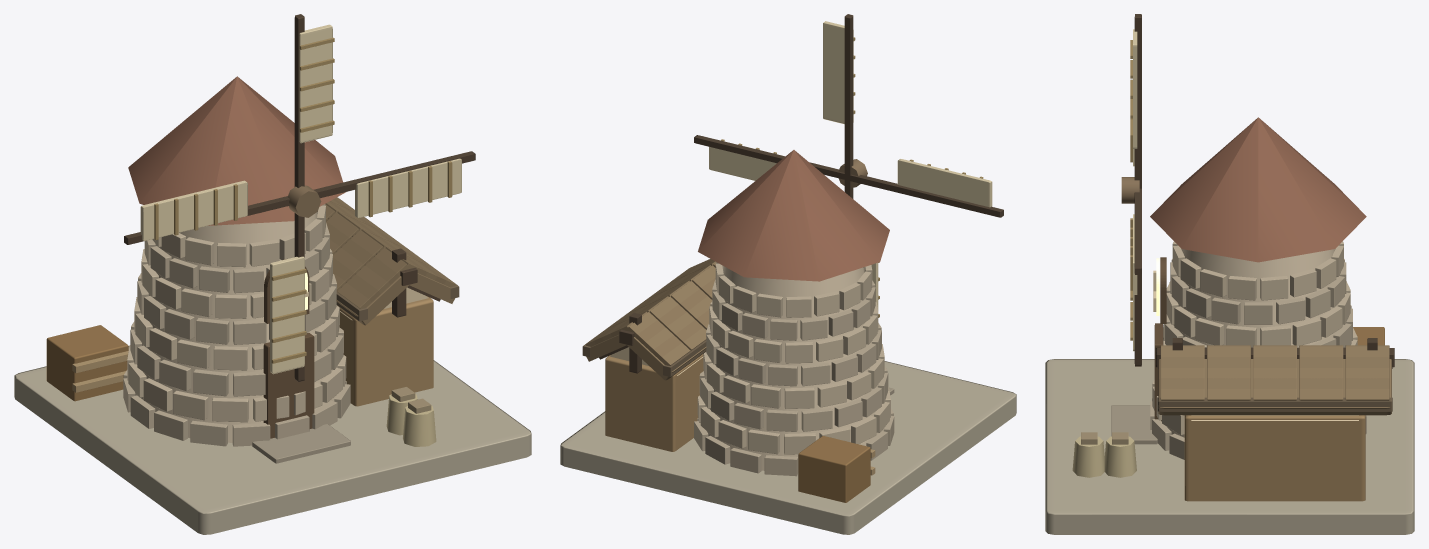
File: mill-0.glb
The picture shows the model from 3 angles, left to right: view 1: azimuth 30°, elevation 25°; view 2: azimuth 150°, elevation 25°; view 3: azimuth 270°, elevation 25°; orthographic projection. The views are drawn at different scales.
Visible parts, largest first — view 1: mill-0-0, mill-fan; view 2: mill-0-0, mill-fan; view 3: mill-0-0, mill-fan.
Boxes of the visible parts, bbox=[...] form: mill-0-0: bbox=[14, 76, 531, 534]; mill-fan: bbox=[124, 14, 475, 382]; mill-0-0: bbox=[560, 150, 1016, 534]; mill-fan: bbox=[694, 14, 1003, 317]; mill-0-0: bbox=[1045, 117, 1414, 534]; mill-fan: bbox=[1121, 14, 1141, 366].
Bounding box in the file's own units: 3.1 × 3.7 × 2.86.
